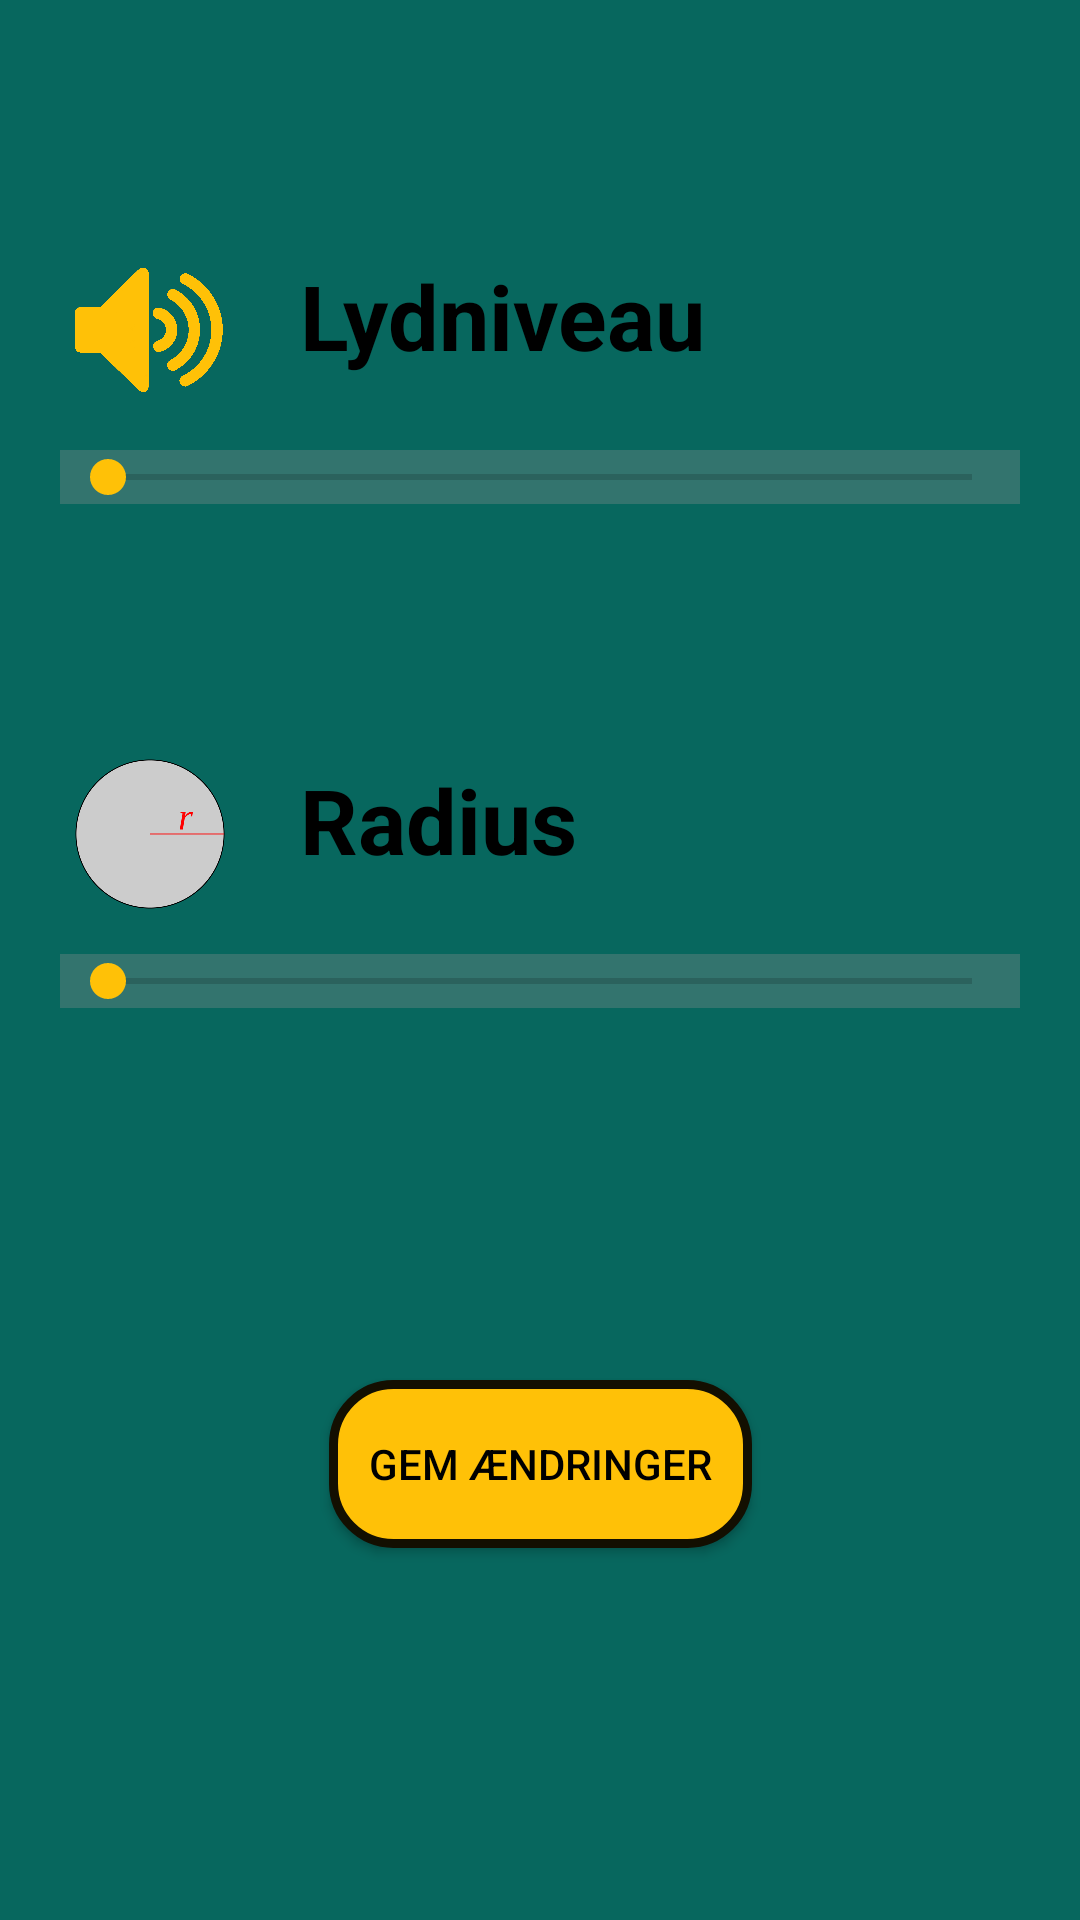

Icon click points for this 1080px x 1920px phone screenshot, format point (x, y):
sound: point (149, 330)
